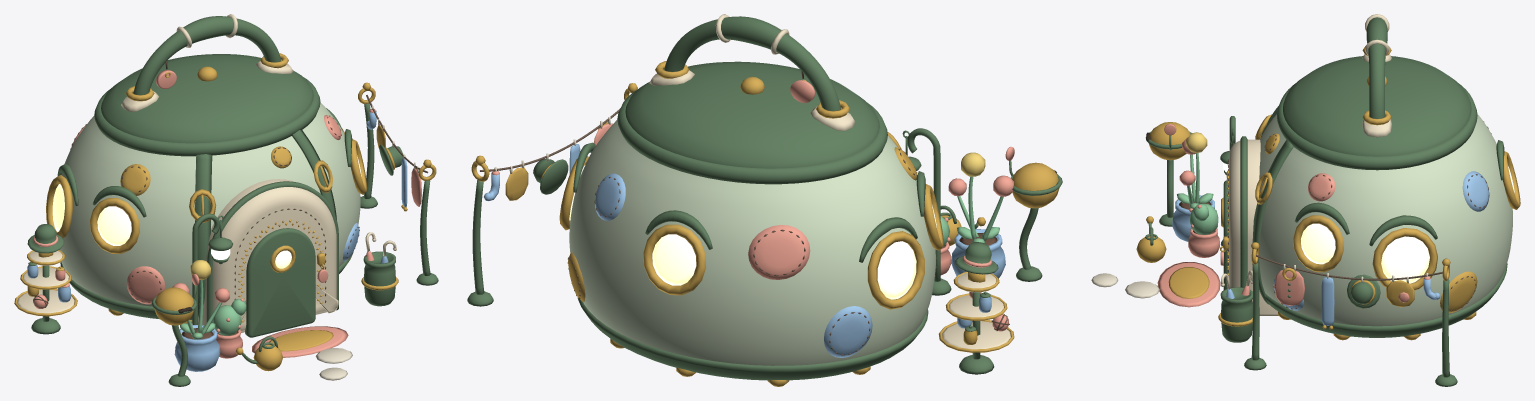
The model's file is house_08_0806.fbx.
3 renders of one model, left to right at view 1: azimuth 30°, elevation 25°; view 2: azimuth 150°, elevation 25°; view 3: azimuth 270°, elevation 25°, orthographic. The views are drawn at different scales.
Parts seen in each view (by area): view 1: House_Body_Bag, House_Lid, Entrance_Pocket, Entrance_Door, House_RimPiping, Roof_Handle, Window_Grommets, Prop_RoundShelf, Wall_Straps, Entrance_Mat, Prop_Clothesline_Posts, Window_Glass (+25 smaller); view 2: House_Body_Bag, House_Lid, Window_Grommets, House_RimPiping, House_BaseTrim, Roof_Handle, Prop_RoundShelf, Window_Glass, Wall_Patches_Mint, Wall_Patches_Pink, Window_Eyelids, Prop_Laundry (+11 smaller); view 3: House_Body_Bag, House_Lid, Prop_Laundry, House_RimPiping, Entrance_Pocket, Window_Grommets, Window_Glass, House_BaseTrim, Entrance_Mat, Prop_Clothesline_Posts, Roof_Handle, Prop_UmbrellaStand (+19 smaller).
Boxes of the visible parts, <box> form: House_Body_Bag: <box>59,102,360,306</box>; House_Lid: <box>101,54,313,143</box>; Entrance_Pocket: <box>191,179,338,332</box>; Entrance_Door: <box>245,228,315,337</box>; House_RimPiping: <box>94,77,320,156</box>; Roof_Handle: <box>133,16,281,95</box>; Window_Grommets: <box>46,128,367,253</box>; Prop_RoundShelf: <box>14,250,77,334</box>; Wall_Straps: <box>195,130,336,317</box>; Entrance_Mat: <box>252,326,348,357</box>; Prop_Clothesline_Posts: <box>360,103,438,285</box>; Window_Glass: <box>52,155,361,245</box>; House_Body_Bag: <box>569,120,935,365</box>; House_Lid: <box>625,61,879,168</box>; Window_Grommets: <box>559,156,943,309</box>; House_RimPiping: <box>617,90,887,184</box>; House_BaseTrim: <box>577,297,928,380</box>; Roof_Handle: <box>664,16,840,110</box>; Prop_RoundShelf: <box>938,272,1014,374</box>; Window_Glass: <box>569,165,936,299</box>; Wall_Patches_Mint: <box>595,173,872,357</box>; Wall_Patches_Pink: <box>748,225,935,279</box>; Window_Eyelids: <box>573,142,925,262</box>; Prop_Laundry: <box>484,122,612,200</box>; House_Body_Bag: <box>1259,114,1512,326</box>; House_Lid: <box>1283,56,1471,156</box>; Prop_Laundry: <box>1274,267,1440,329</box>; House_RimPiping: <box>1277,84,1477,170</box>; Entrance_Pocket: <box>1229,139,1278,315</box>; Window_Grommets: <box>1293,151,1520,290</box>; Window_Glass: <box>1301,166,1514,283</box>; House_BaseTrim: <box>1265,263,1507,337</box>; Entrance_Mat: <box>1157,262,1220,307</box>; Prop_Clothesline_Posts: <box>1244,263,1457,386</box>; Roof_Handle: <box>1366,17,1387,118</box>; Prop_UmbrellaStand: <box>1218,287,1252,342</box>.
Bounding box in the file's own units: 6.32 × 3.85 × 5.71.
